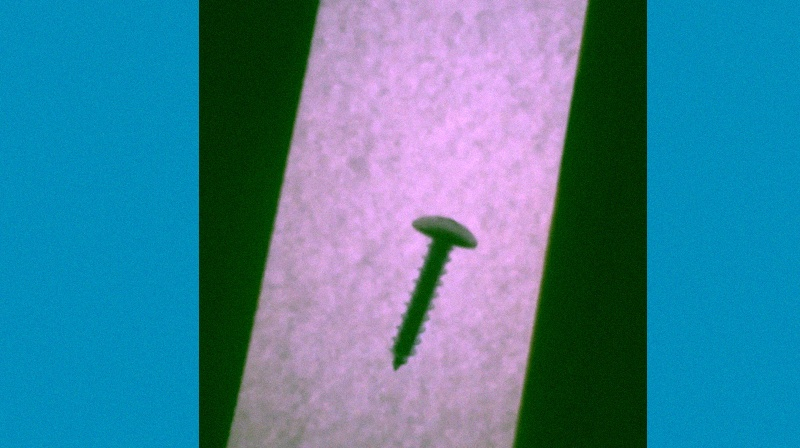S003: (383, 211, 480, 376)
